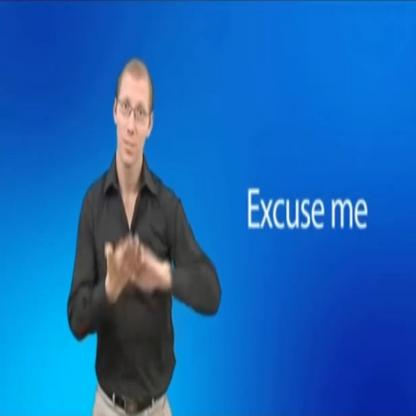ExcuseMe: (99, 224, 170, 306)
